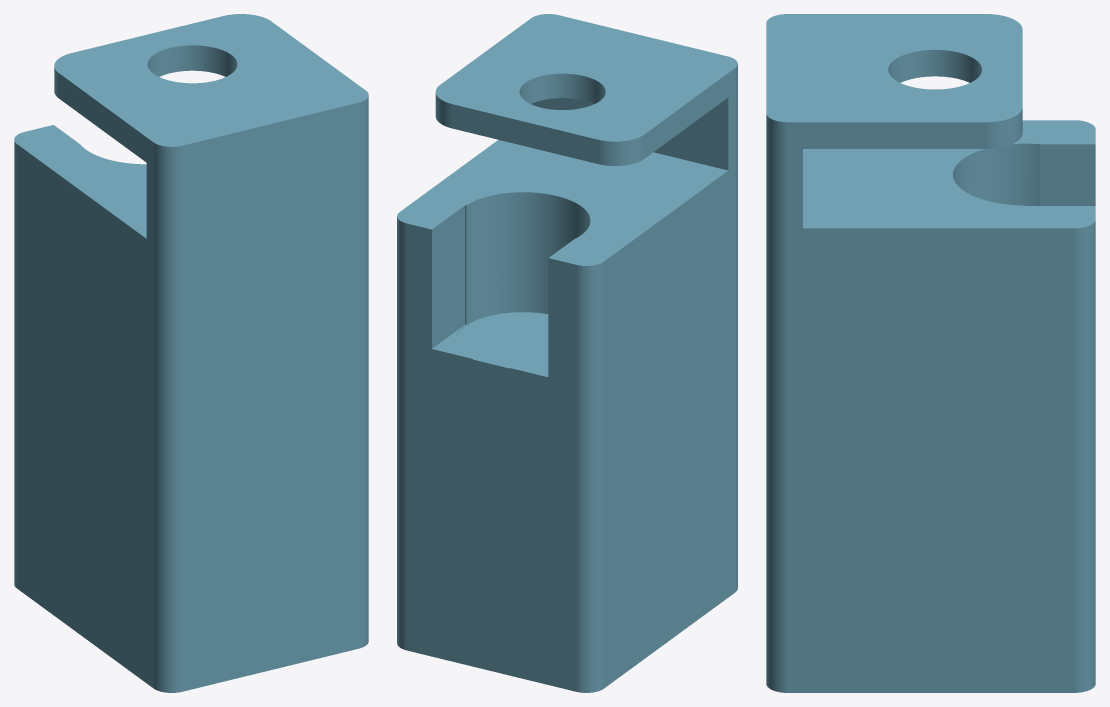
File: redsea-skimmer-risers.glb
3 renders of one model, left to right at view 1: azimuth 30°, elevation 25°; view 2: azimuth 150°, elevation 25°; view 3: azimuth 270°, elevation 25°, orthographic. The views are drawn at different scales.
Visible parts, largest first — view 1: 1fd4adab-foot-70.stl; view 2: 1fd4adab-foot-70.stl; view 3: 1fd4adab-foot-70.stl.
Part boxes in pixels (box(x1,y1,x2,y2)): 1fd4adab-foot-70.stl: box(14, 14, 368, 692); 1fd4adab-foot-70.stl: box(397, 14, 737, 692); 1fd4adab-foot-70.stl: box(766, 14, 1095, 692).
Size of the model in its own units: 0.035 by 0.086 by 0.045.
